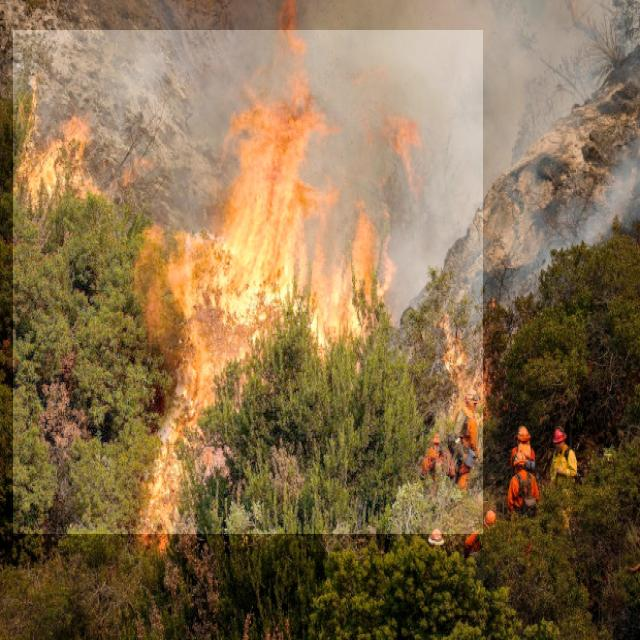Fire: (13, 30, 483, 534)
